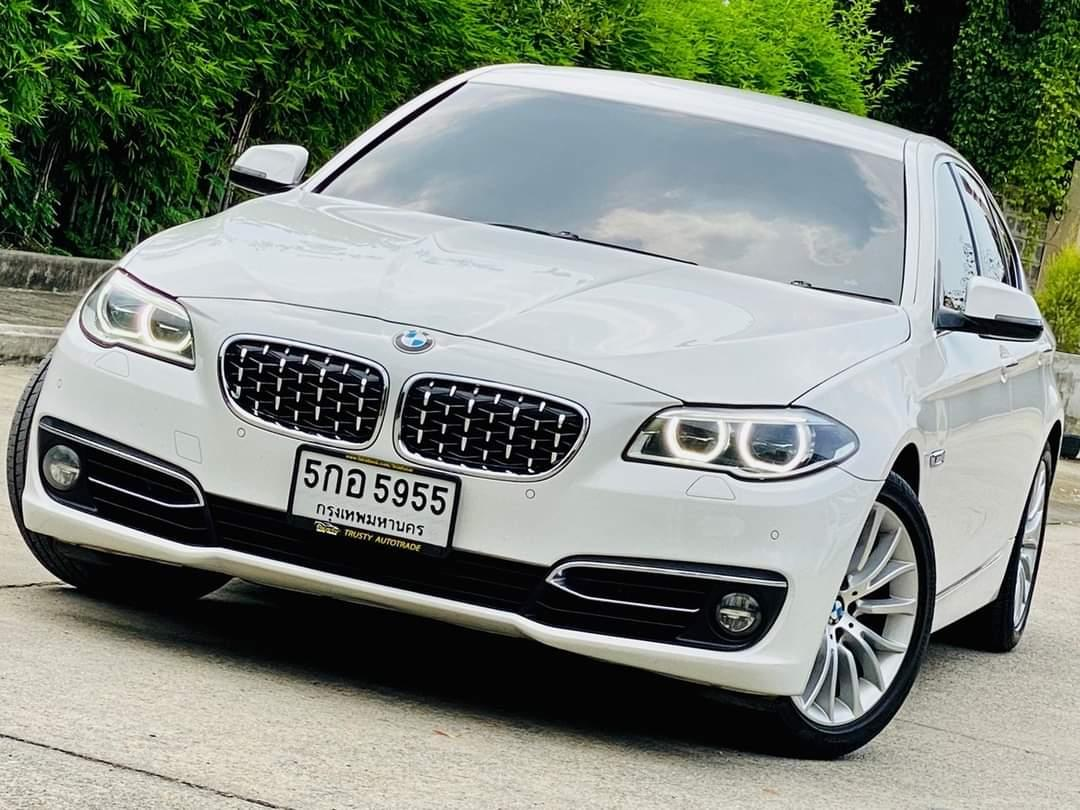license-plate: (284, 440, 465, 569)
